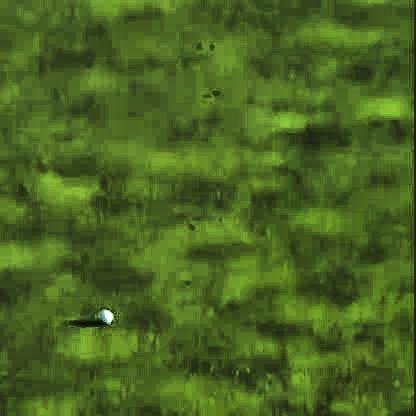golfball: (97, 306, 113, 322)
